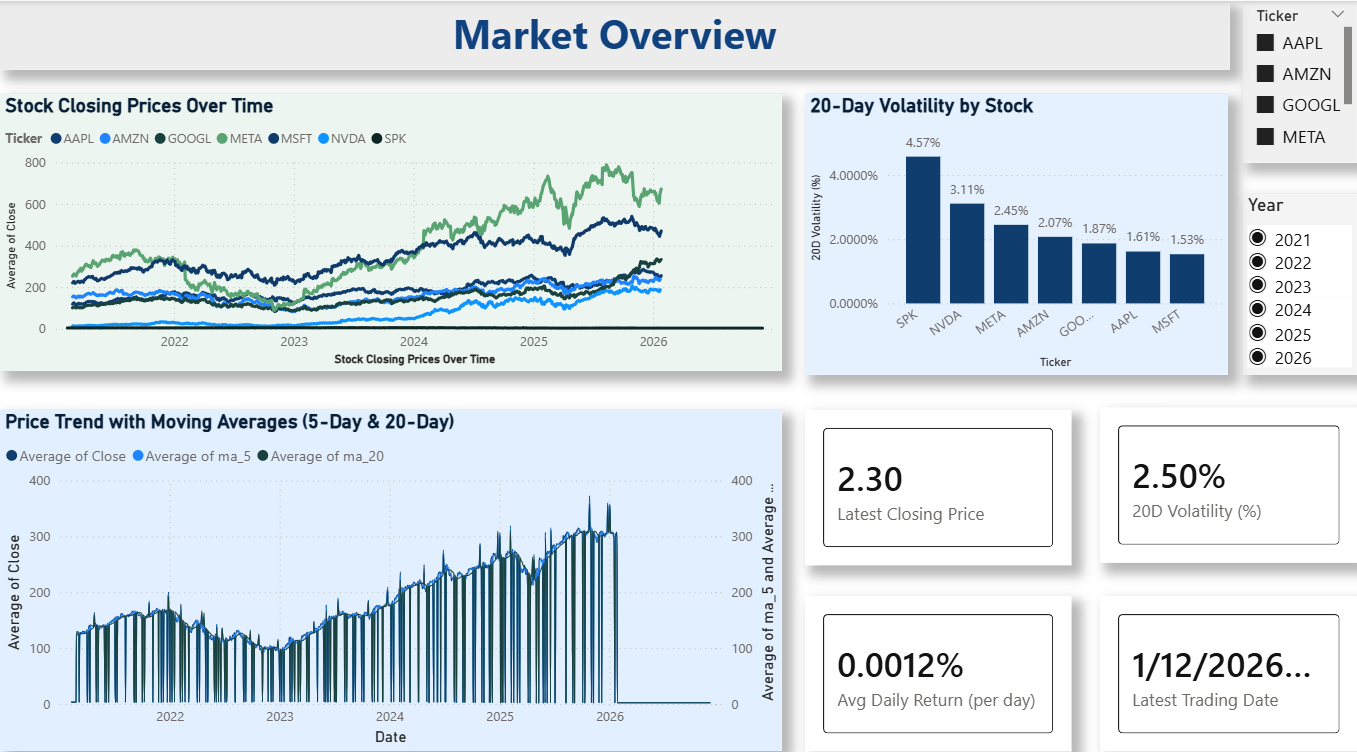

This screenshot's page, from the dashboard's own definition file:
{"tool":"powerbi","page":{"name":"Market Overview","canvas":[1280,720],"ordinal":0},"visuals":[{"type":"lineChart","title":"Stock Closing Prices Over Time","fields":{"Category":["fact_prices_features.Date.Variation.Date Hierarchy.Year"],"Series":["fact_prices_features.Ticker"],"Y":["Avg(fact_prices_features.Close)"]},"box":[0,86.2,727.5,258.8],"z":0},{"type":"lineChart","title":"Price Trend with Moving Averages (5-Day & 20-Day)","fields":{"Category":["fact_prices_features.Date.Variation.Date Hierarchy.Year"],"Y":["Avg(fact_prices_features.Close)"],"Y2":["Avg(fact_prices_features.ma_5)","Avg(fact_prices_features.ma_20)"]},"box":[0,380,727.5,317.5],"z":1000},{"type":"clusteredColumnChart","title":"20-Day Volatility by Stock ","fields":{"Category":["fact_prices_features.Ticker"],"Y":["_Measures.20D Volatility (%)"]},"box":[748.8,86.2,393.8,261.2],"z":2000},{"type":"cardVisual","fields":{"Data":["fact_prices_features.Latest Closing Price"]},"box":[748.3,380,248.3,145],"z":3000},{"type":"cardVisual","fields":{"Data":["fact_prices_features.Avg Daily Return (%)"]},"box":[748.3,553.3,248.3,145],"z":4000},{"type":"cardVisual","fields":{"Data":["_Measures.20D Volatility (%)"]},"box":[1023.3,378.3,240,145],"z":5000},{"type":"cardVisual","fields":{"Data":["_Measures.Latest Trading Date"]},"box":[1023.3,553.3,240,145],"z":6000},{"type":"textbox","box":[0,0,1143.8,63.8],"z":7000},{"type":"listSlicer","fields":{"Values":["DateTable.Year"]},"box":[1156.2,178.8,107.5,168.8],"z":8000},{"type":"slicer","fields":{"Values":["fact_prices_features.Ticker"]},"box":[1156.2,0,107.5,150],"z":9000}]}

Visuals, with their boxes in screenshot pixels (x1, y1, x2, y2), scaled from the page's 1280x720 canvas onto the 1357x752 screenshot:
"Stock Closing Prices Over Time" lineChart: box(0, 90, 771, 360)
"Price Trend with Moving Averages (5-Day & 20-Day)" lineChart: box(0, 397, 771, 728)
"20-Day Volatility by Stock " clusteredColumnChart: box(794, 90, 1211, 363)
cardVisual - fact_prices_features.Latest Closing Price: box(793, 397, 1057, 548)
cardVisual - fact_prices_features.Avg Daily Return (%): box(793, 578, 1057, 729)
cardVisual - _Measures.20D Volatility (%): box(1085, 395, 1339, 547)
cardVisual - _Measures.Latest Trading Date: box(1085, 578, 1339, 729)
textbox: box(0, 0, 1213, 67)
listSlicer - DateTable.Year: box(1226, 187, 1340, 363)
slicer - fact_prices_features.Ticker: box(1226, 0, 1340, 157)
